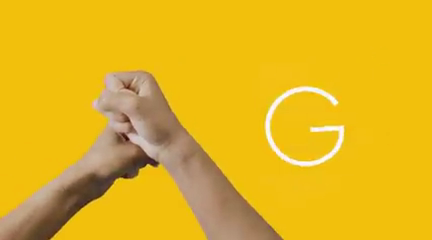G: (77, 61, 188, 204)
